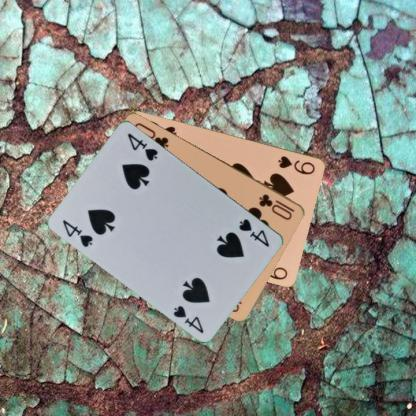10c: (256, 192, 297, 222)
4s: (236, 216, 271, 249), (60, 216, 95, 248)
9s: (276, 153, 316, 176)
